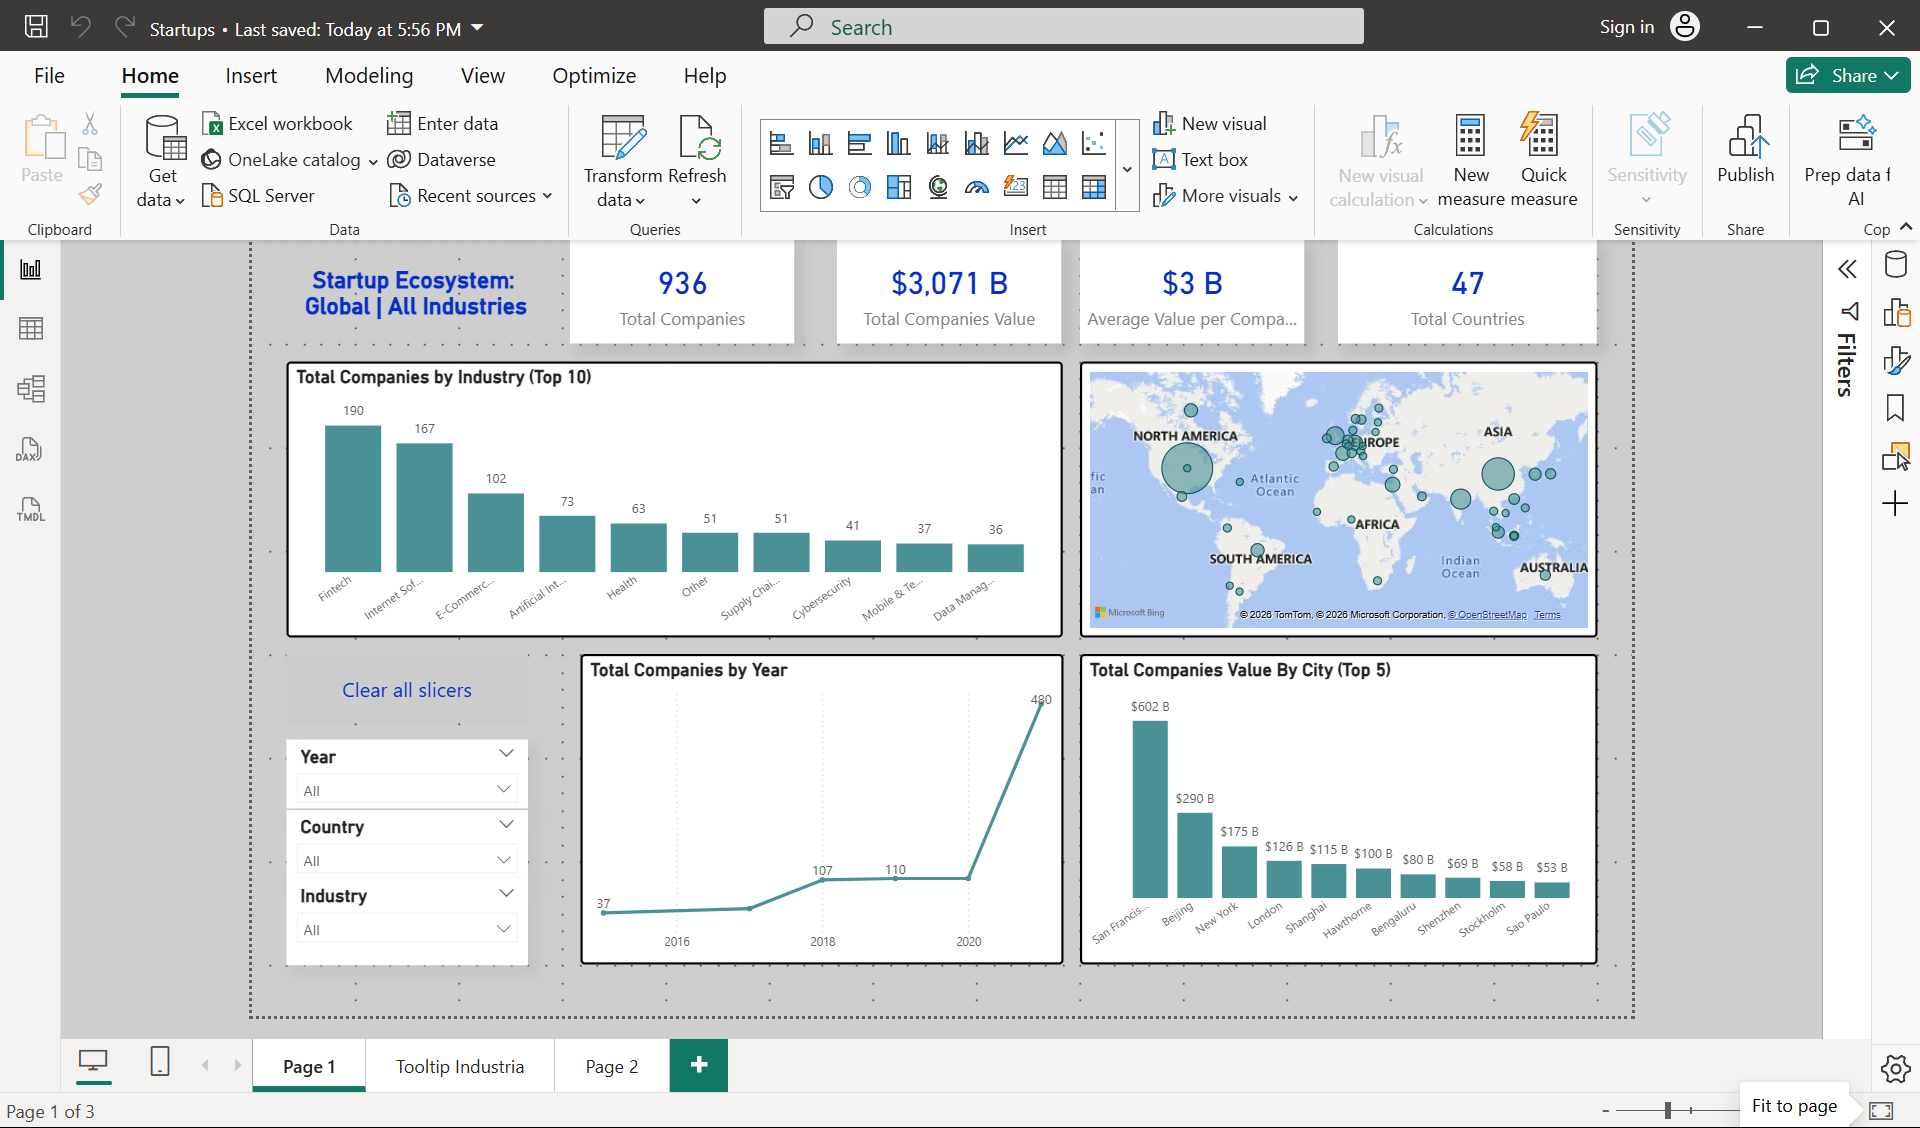

The page's visual inventory and layout, read from the dashboard file:
{"tool":"powerbi","page":{"name":"Page 1","canvas":[1280,720],"ordinal":0},"visuals":[{"type":"card","fields":{"Values":["Measures (2).Total Companies Value"]},"box":[543.1,0,208,96],"z":0},{"type":"clusteredColumnChart","title":"Total Companies Value By City (Top 5)","fields":{"Y":["Measures (2).Total Companies Value"],"Category":["startups.City 3"]},"box":[768,384,480,288],"z":1000},{"type":"card","fields":{"Values":["Medidas.Total Companies"]},"box":[294.7,0,208,96],"z":2000},{"type":"card","fields":{"Values":["Medidas.Average Value per Companie"]},"box":[768,0,208,96],"z":3000},{"type":"card","fields":{"Values":["Medidas.Total Countries"]},"box":[1008,0,240,96],"z":4000},{"type":"clusteredColumnChart","title":"Total Companies by Industry (Top 10)","fields":{"Y":["Medidas.Total Companies"],"Category":["startups.Industry"]},"box":[32,112,720,256],"z":5000},{"type":"slicer","fields":{"Values":["Calendar.Year"]},"box":[32,464,224,64],"z":6000},{"type":"slicer","fields":{"Values":["startups.Country"]},"box":[32,528,224,64],"z":7000},{"type":"slicer","fields":{"Values":["startups.Industry"]},"box":[32,592,224,80],"z":8000},{"type":"map","fields":{"Category":["startups.Country"],"Size":["Medidas.Total Companies"]},"box":[768,112,480,256],"z":9000},{"type":"lineChart","fields":{"Y":["Medidas.Total Companies"],"Category":["Calendar.Year"]},"box":[304,384,448,288],"z":10000},{"type":"actionButton","box":[32,384,224,64],"z":11000},{"type":"card","fields":{"Values":["Medidas.Dashboard Title"]},"box":[32,0,240,96],"z":12000}]}

Visuals, with their boxes on the page's 1280x720 design canvas (x1, y1, x2, y2). These are canvas units, not pixel positions in the 1920x1128 screenshot, which may show the page scaled, cropped or inside an application window:
card - Measures (2).Total Companies Value: bbox=(543, 0, 751, 96)
"Total Companies Value By City (Top 5)" clusteredColumnChart: bbox=(768, 384, 1248, 672)
card - Medidas.Total Companies: bbox=(295, 0, 503, 96)
card - Medidas.Average Value per Companie: bbox=(768, 0, 976, 96)
card - Medidas.Total Countries: bbox=(1008, 0, 1248, 96)
"Total Companies by Industry (Top 10)" clusteredColumnChart: bbox=(32, 112, 752, 368)
slicer - Calendar.Year: bbox=(32, 464, 256, 528)
slicer - startups.Country: bbox=(32, 528, 256, 592)
slicer - startups.Industry: bbox=(32, 592, 256, 672)
map - startups.Country x Medidas.Total Companies: bbox=(768, 112, 1248, 368)
lineChart - Medidas.Total Companies x Calendar.Year: bbox=(304, 384, 752, 672)
actionButton: bbox=(32, 384, 256, 448)
card - Medidas.Dashboard Title: bbox=(32, 0, 272, 96)
